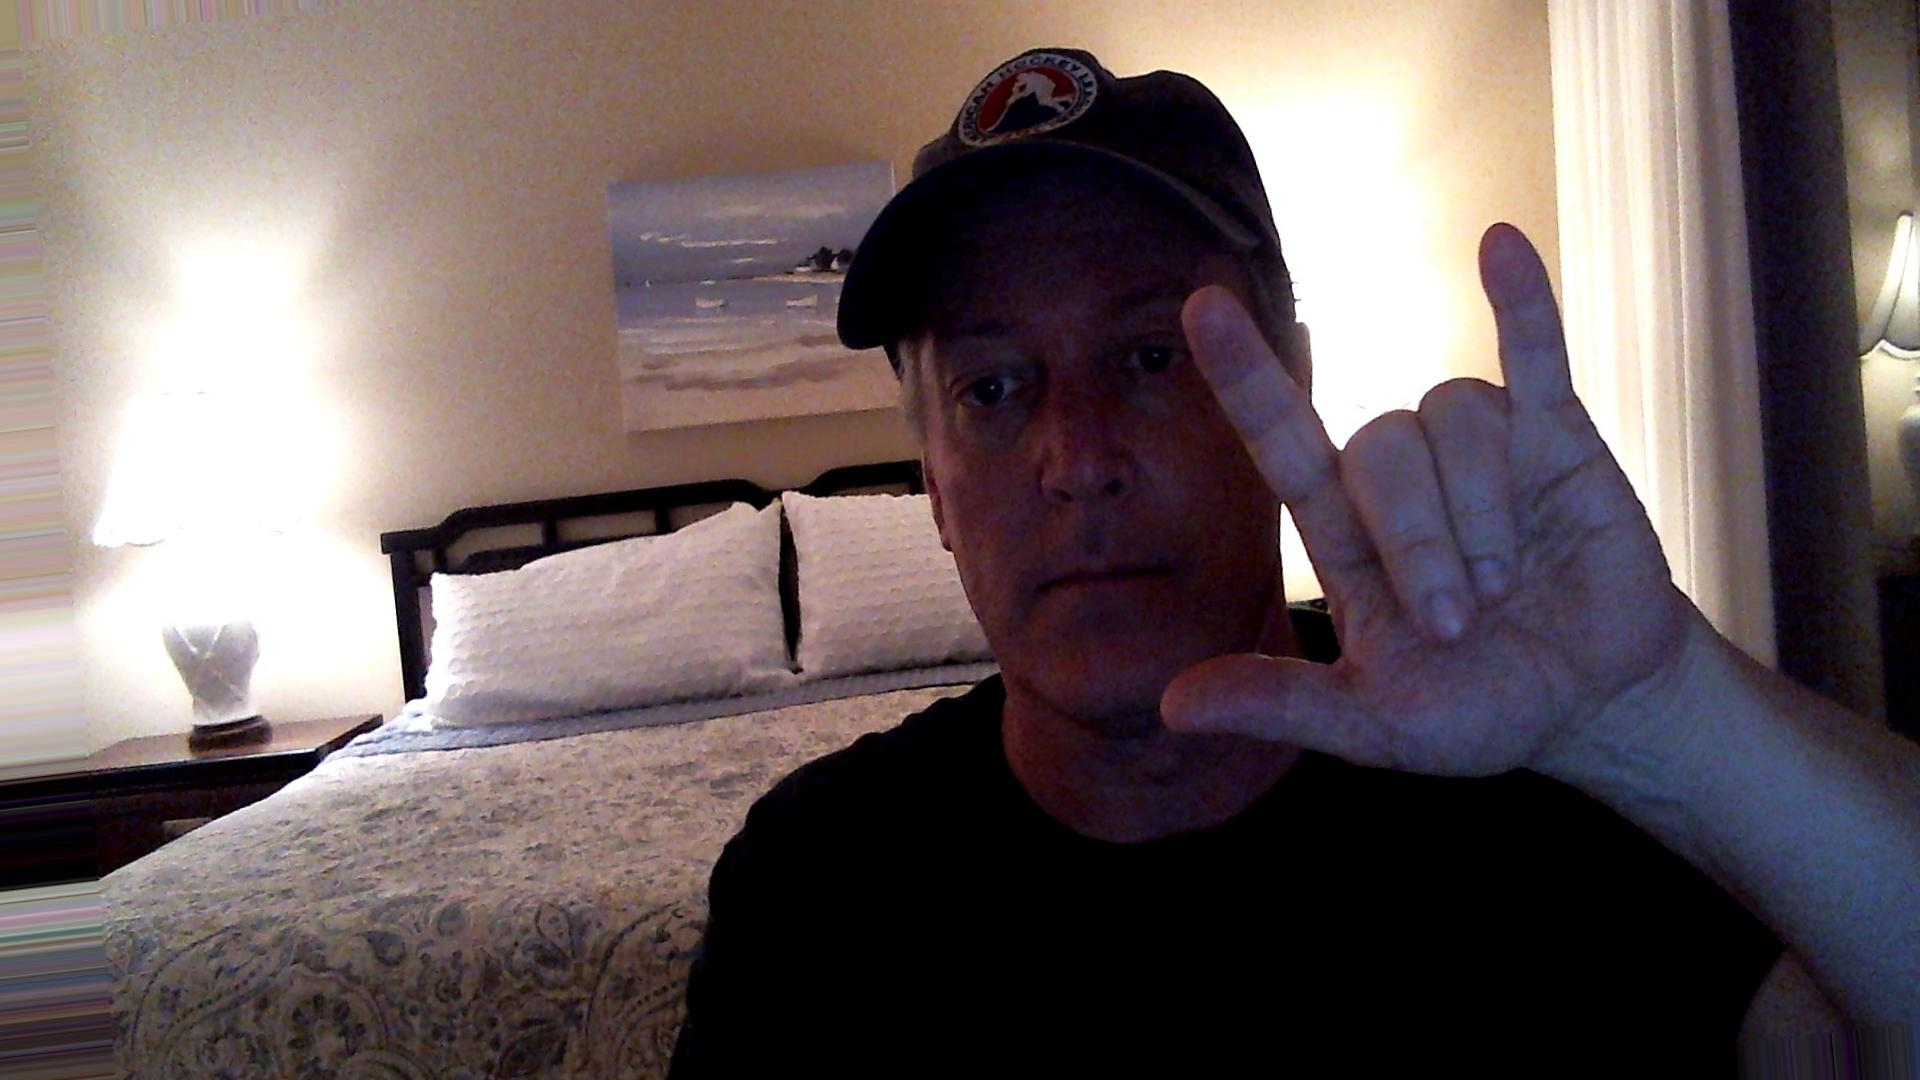I Love You: (1153, 216, 1725, 796)
